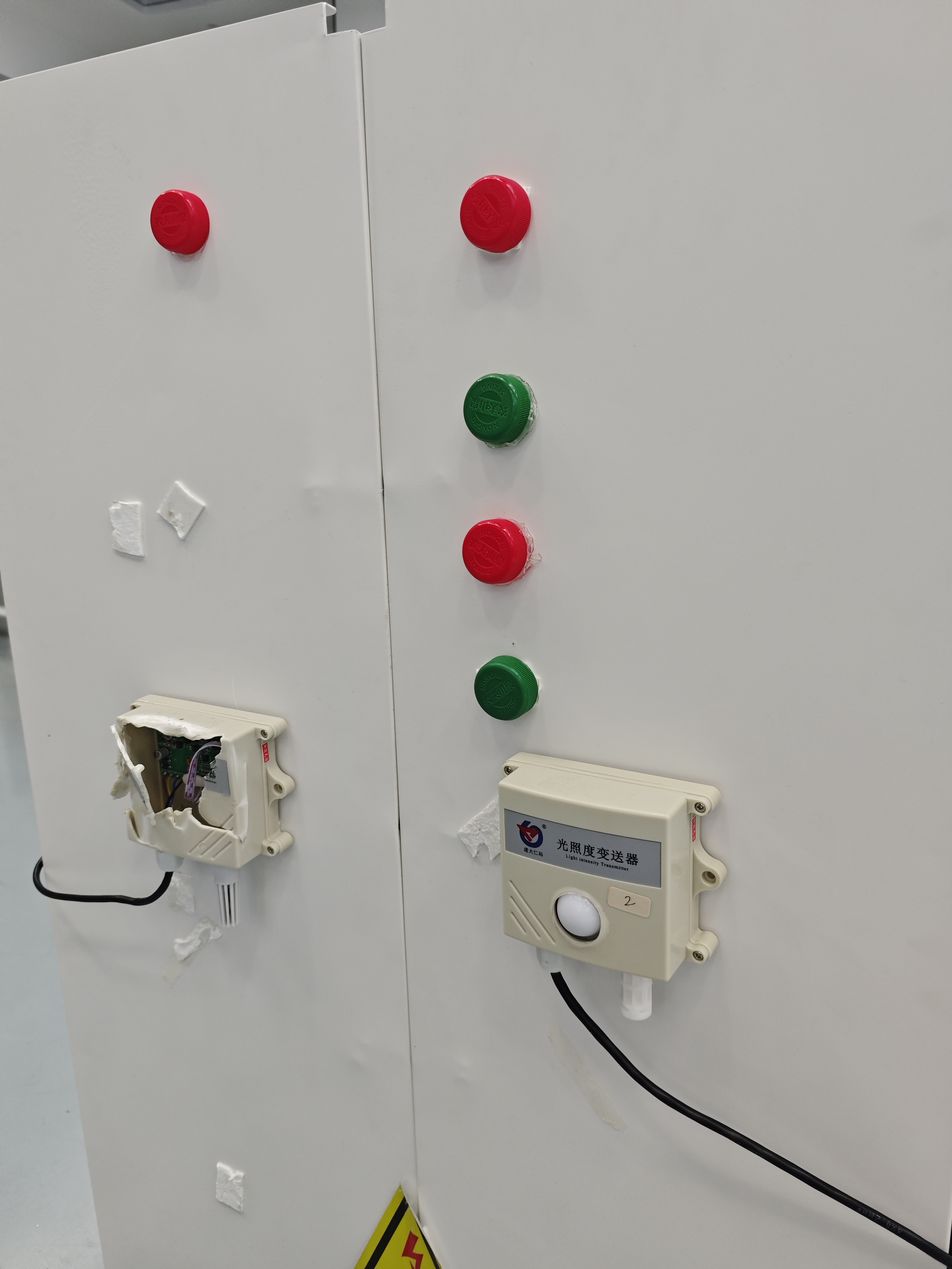red_warning: (417, 134, 558, 307), (126, 159, 290, 299), (405, 488, 557, 588)
sensor_damage: (85, 670, 324, 953)
